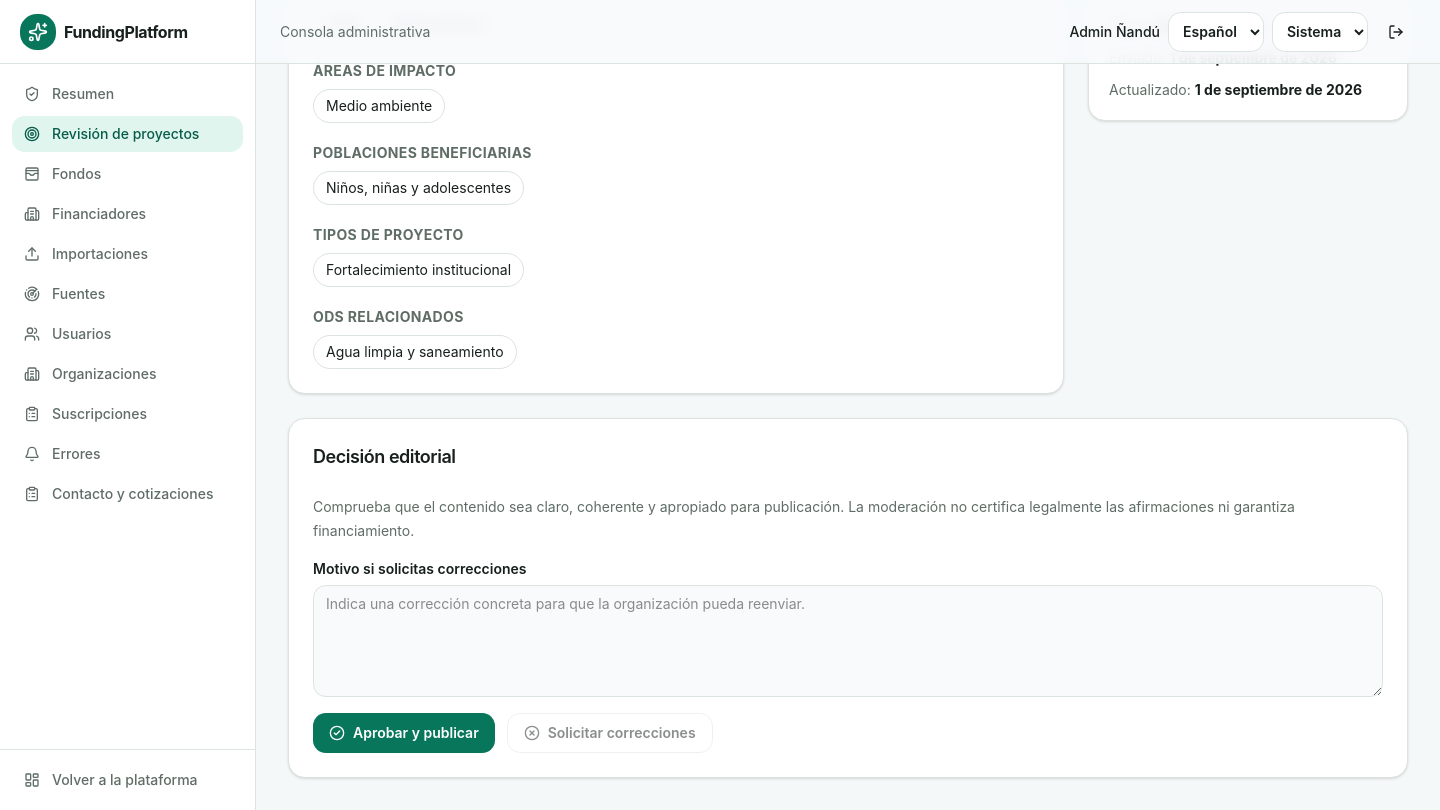
editorial administration ES/EN › publishes a project only on click, with a null rejection reason and captured version
This screenshot has width=1440, height=810.
(page scrolled)
Type "Borrador que no debe publicarse" into the text box. click: (848, 641)
box: [313,585,1383,697]
(page scrolled)
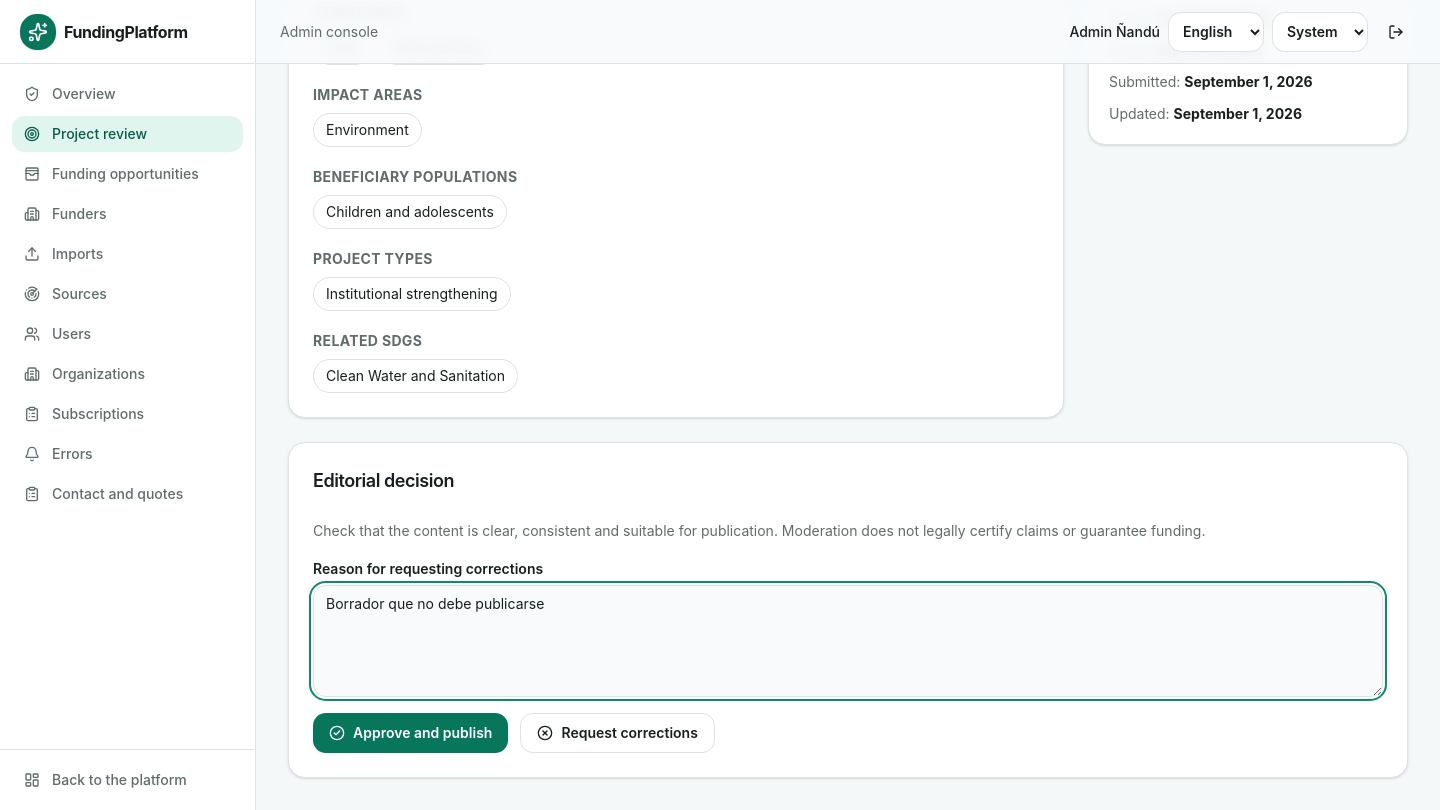
Click the button "Approve and publish". click: (411, 733)
box: [313,713,508,753]
(page scrolled)
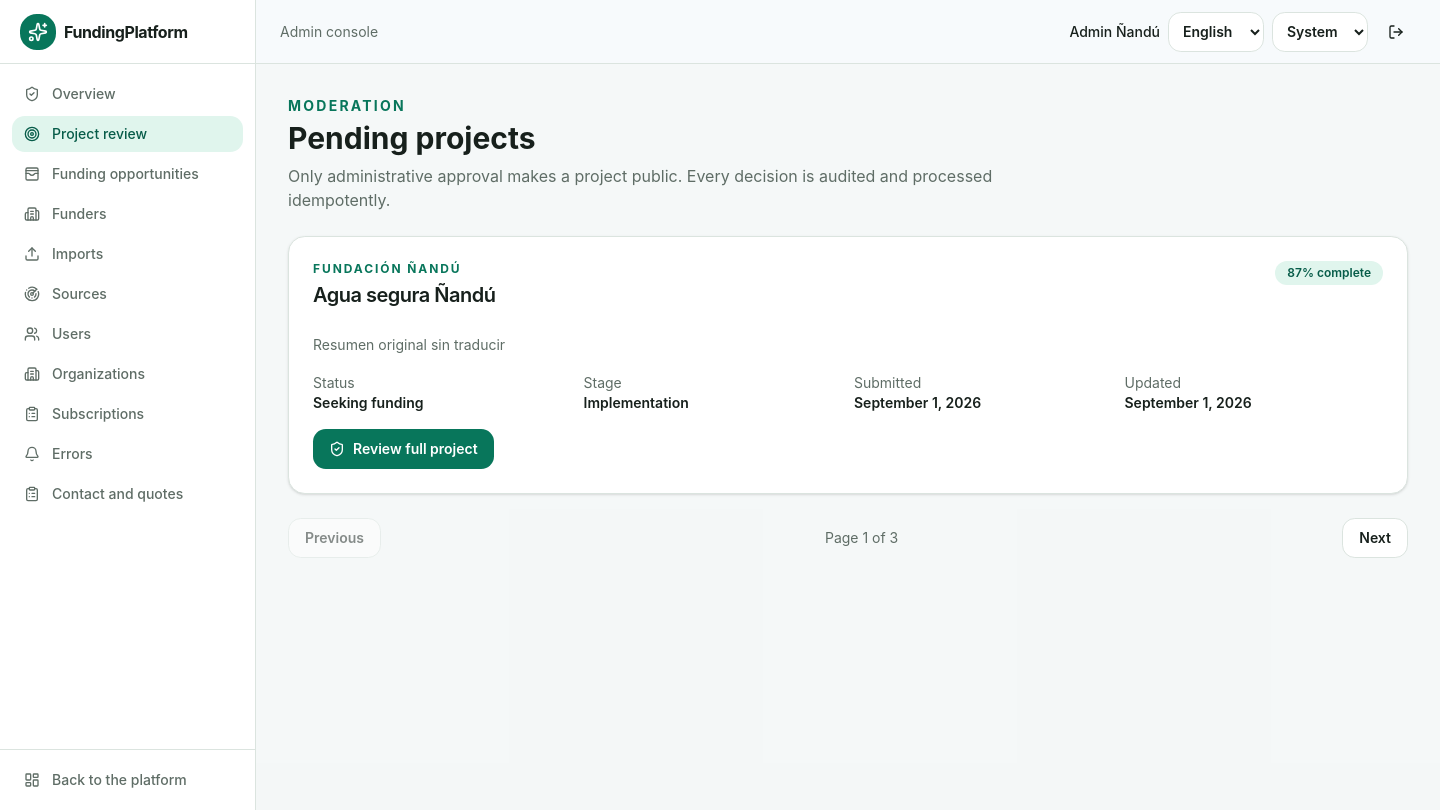
Check: the heading "Pending projects" is shown, box [288,120,536,156]
